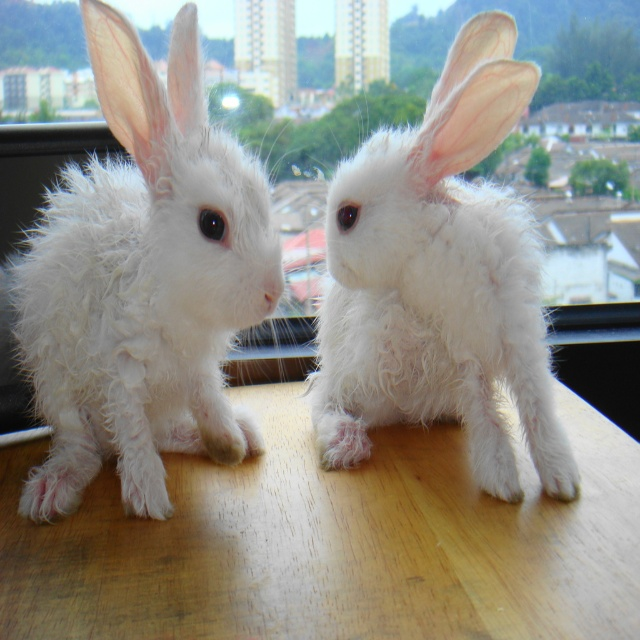Rabbit: (0, 0, 351, 525), (293, 10, 581, 503)
